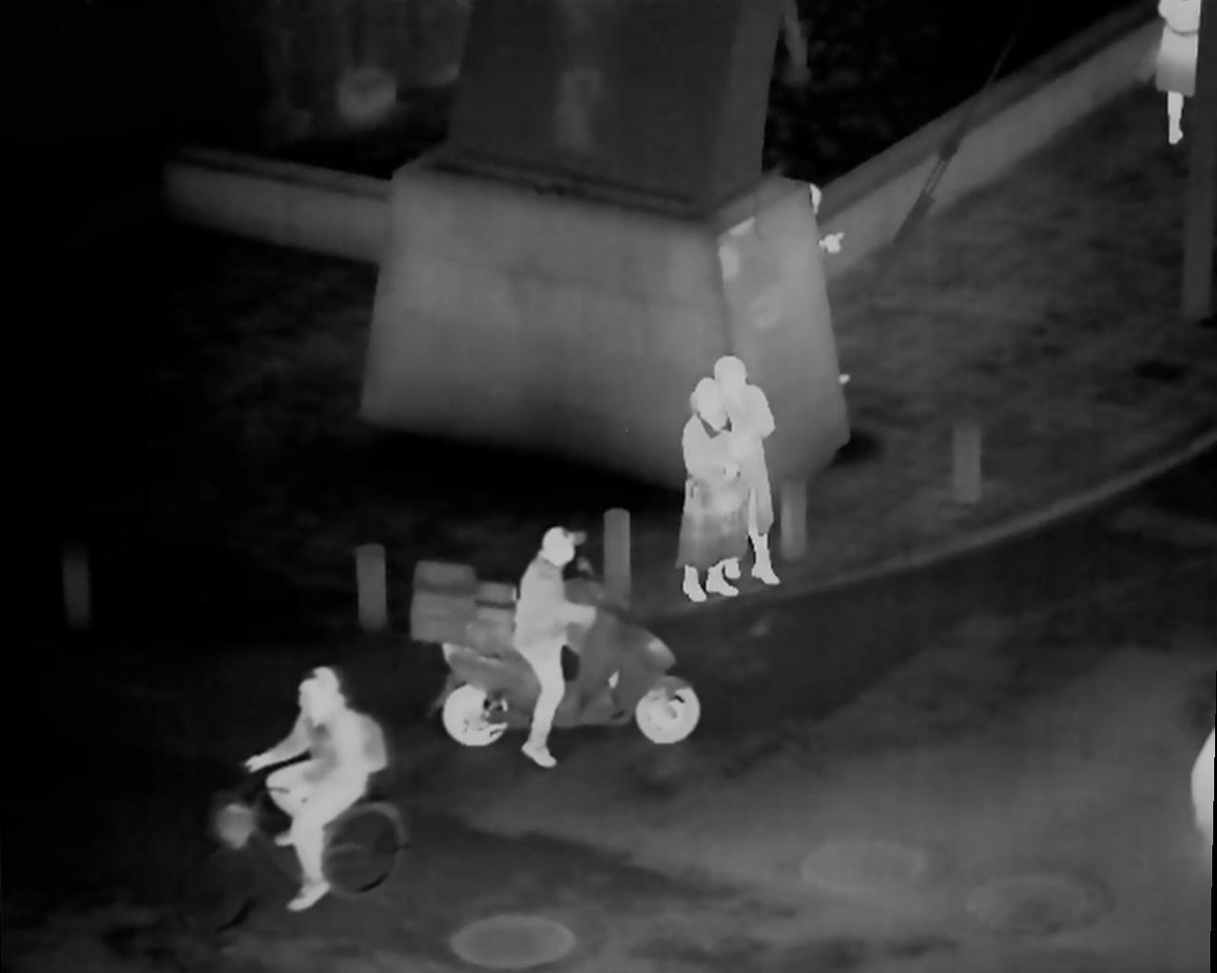person: (250, 664, 388, 908), (509, 528, 596, 765), (715, 357, 782, 583), (682, 380, 742, 599)
